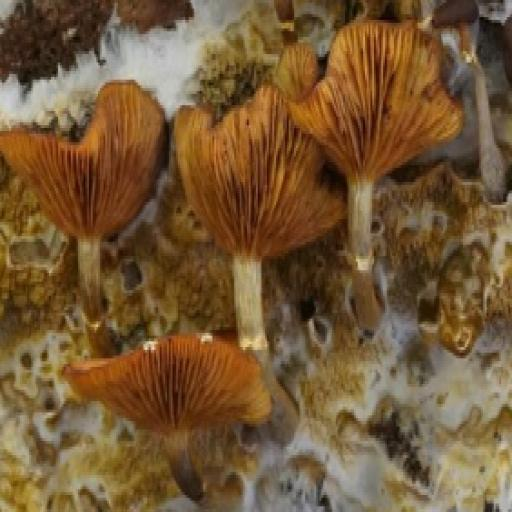mushroom: (266, 0, 511, 311), (142, 60, 385, 351), (0, 57, 229, 305), (53, 270, 292, 502)
